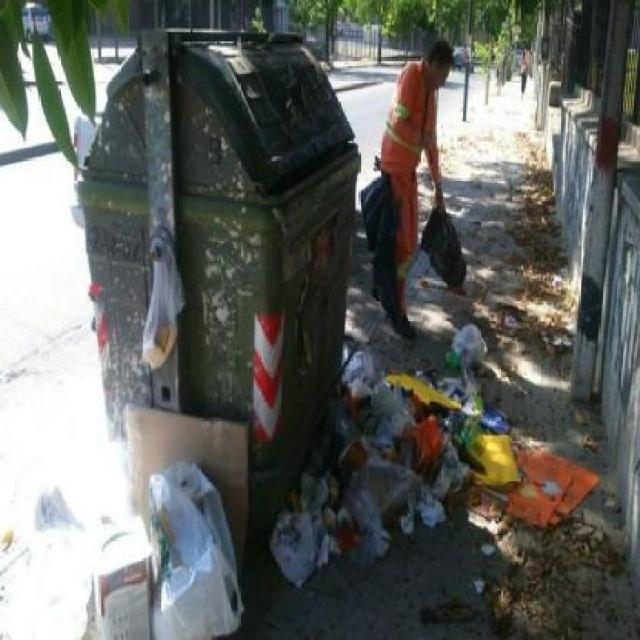garbage: (268, 362, 514, 584), (48, 455, 222, 636)
